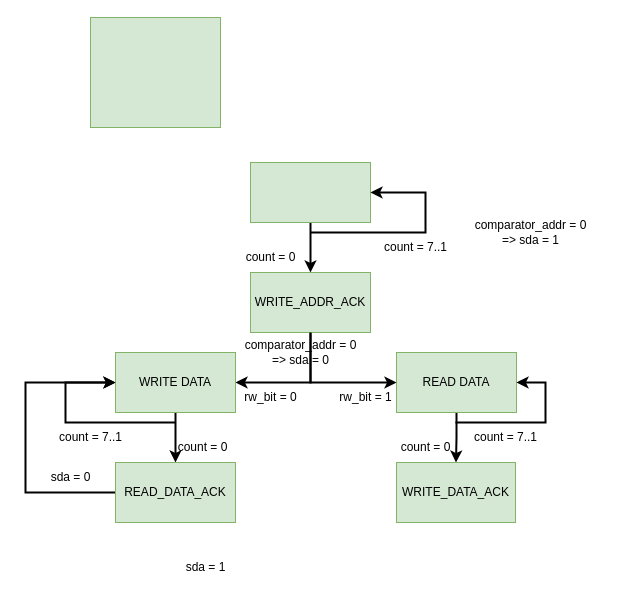
The diagram is 617 pixels wide and 600 high, and some of its shapes have lost their labels. Each missing label, with the centre of its shape:
"comparator_addr start tran_fifo_empty = 0 rev_fifo_full = 0 sda = 1 scl = 1" goes at (x=155, y=72).
"READ_ADDRESS" goes at (x=310, y=192).
